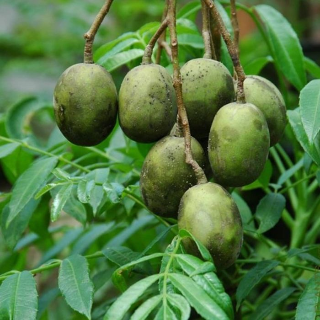coc: (206, 102, 269, 188), (55, 63, 117, 146), (117, 63, 175, 142)
